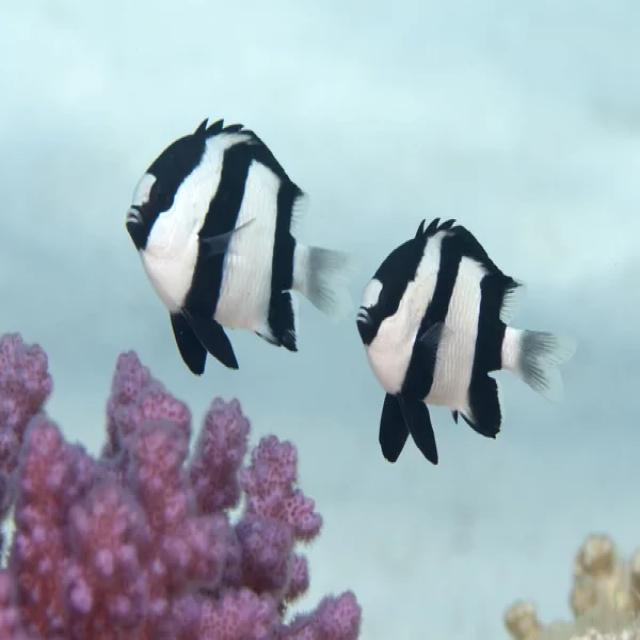ThreeStripedDamselfish: (125, 119, 352, 375), (355, 219, 578, 465)
